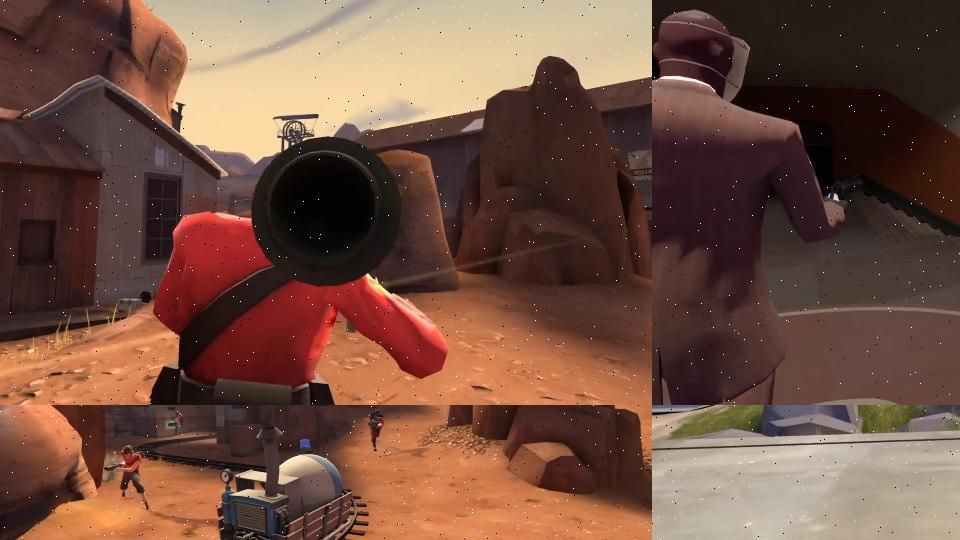Enemy: (144, 131, 460, 405), (652, 6, 859, 405), (103, 445, 156, 516), (364, 409, 389, 454), (164, 409, 193, 437)
